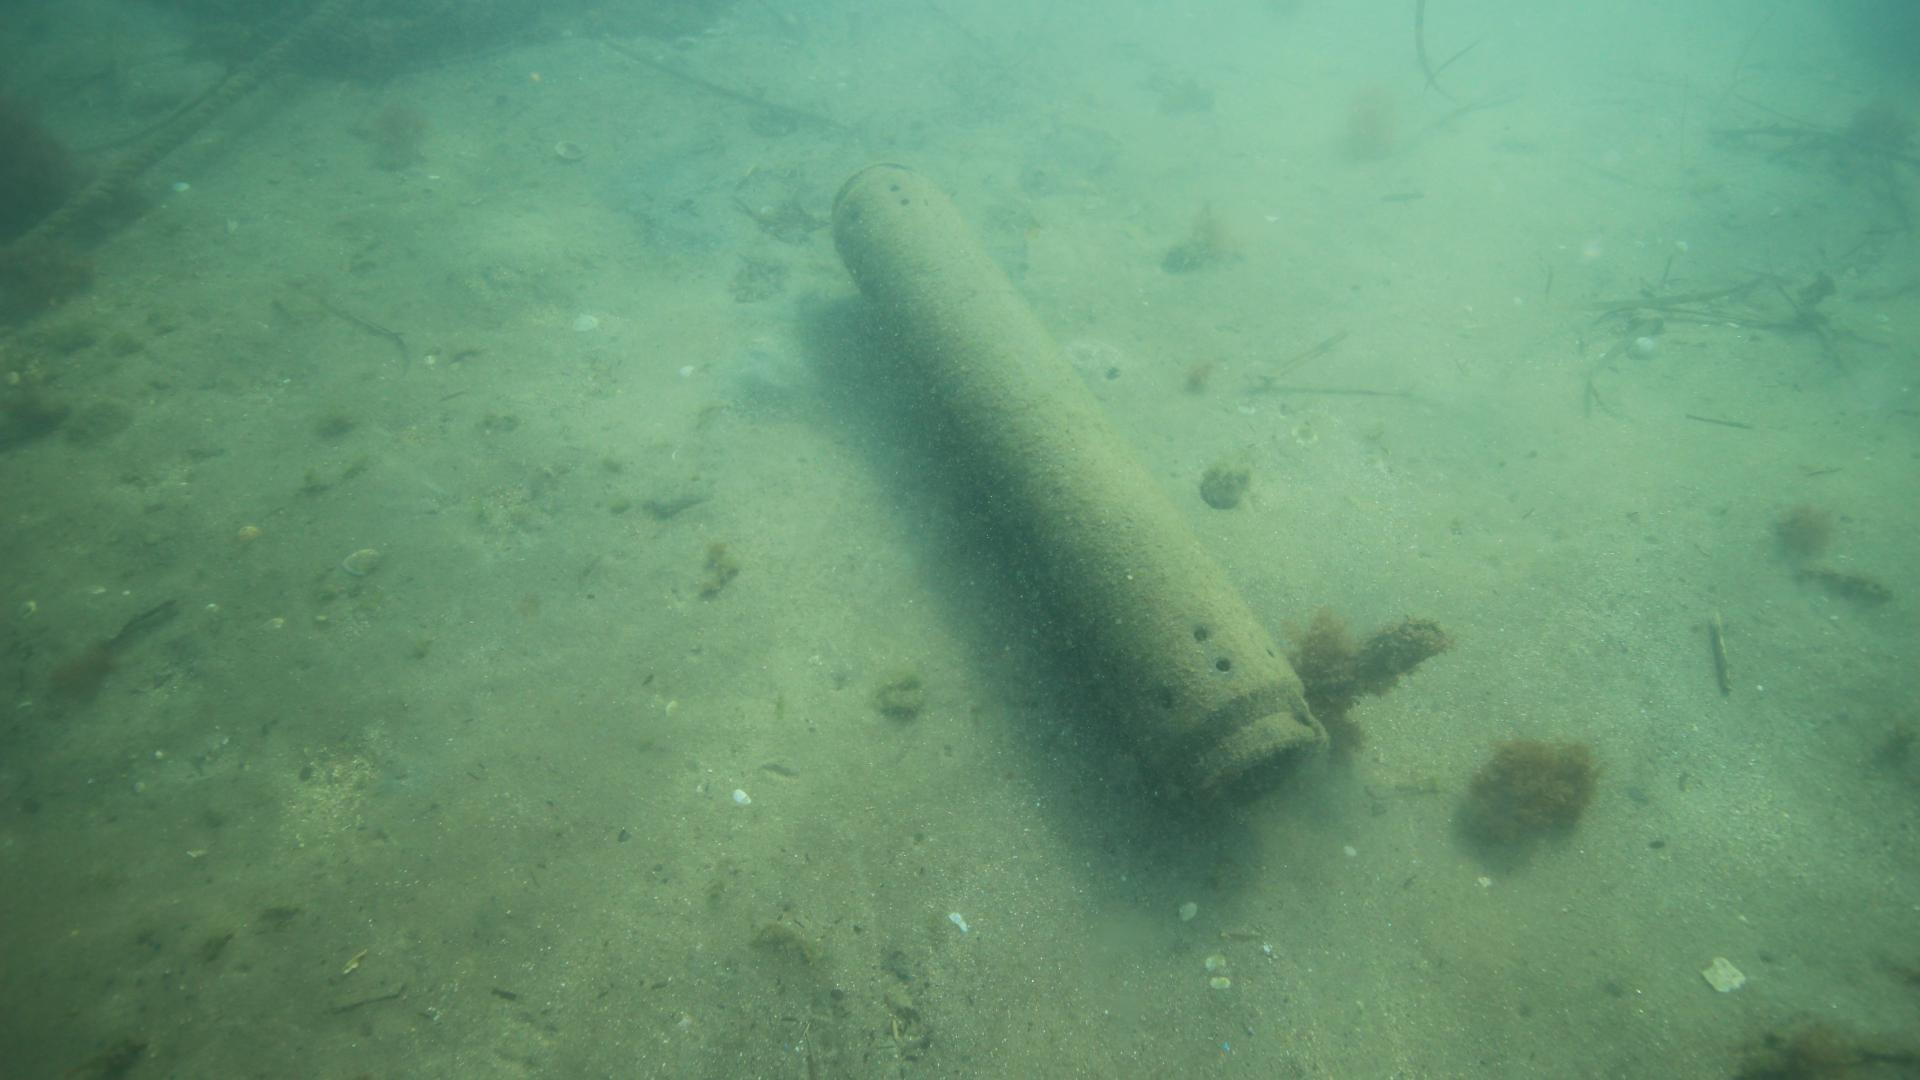eel fish trap: (827, 162, 1333, 822)
